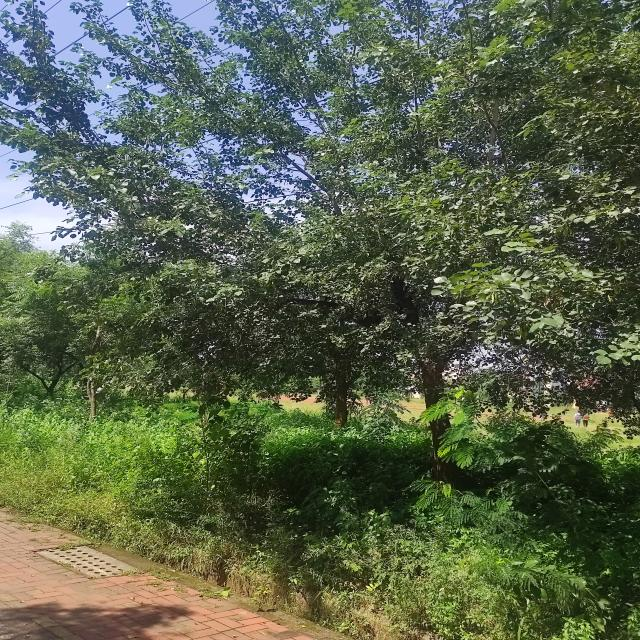Devakanchan tree: (55, 13, 577, 474)
